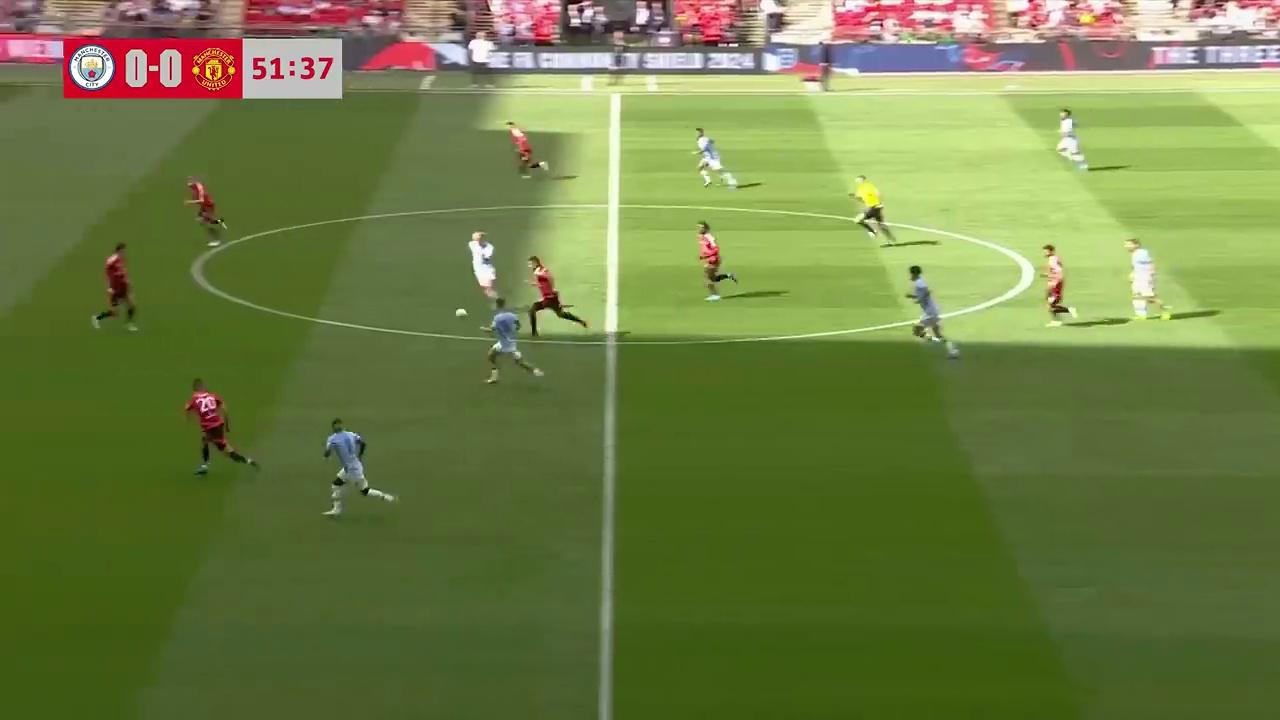ball: (453, 304, 468, 319)
player: (183, 376, 257, 478), (319, 419, 396, 515), (907, 263, 959, 362), (321, 418, 373, 516), (526, 255, 587, 337), (482, 296, 539, 383), (92, 241, 139, 332), (1125, 239, 1171, 322), (696, 221, 737, 302), (1041, 243, 1075, 324), (183, 175, 227, 237), (693, 127, 736, 188), (507, 122, 546, 177), (467, 231, 496, 303), (1056, 108, 1088, 169)
referee: (850, 174, 897, 244)
